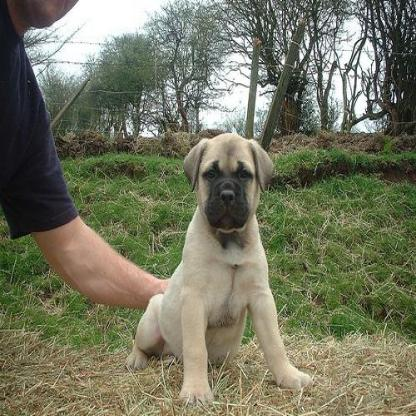bull_mastiff: (125, 130, 312, 406)
